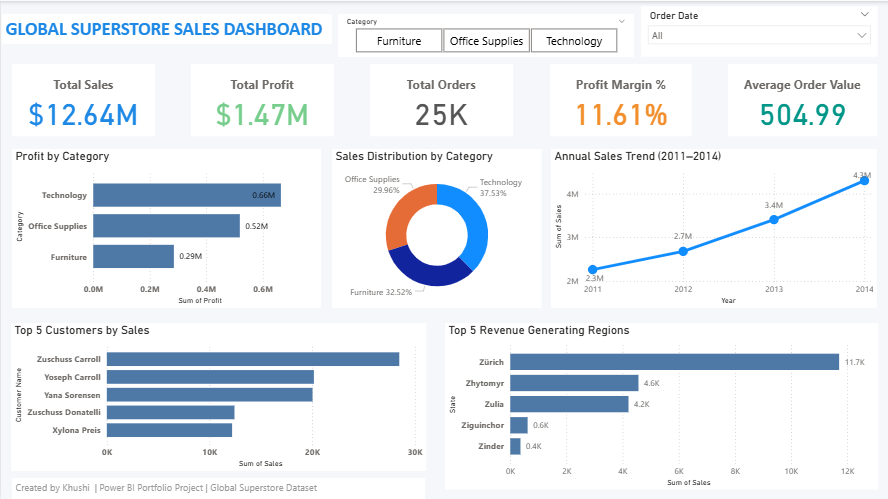

What the dashboard file says about the page in this screenshot:
{"tool":"powerbi","page":{"name":"Page 1","canvas":[1280,720],"ordinal":0},"visuals":[{"type":"cardVisual","fields":{"Data":["Orders.Total Sales"]},"box":[15.8,90.7,205.9,103.7],"z":0},{"type":"cardVisual","fields":{"Data":["Orders.Total Profit"]},"box":[274,90.7,205.9,103.7],"z":1000},{"type":"cardVisual","fields":{"Data":["Orders.Total Orders"]},"box":[532.1,90.7,205.9,103.7],"z":2000},{"type":"lineChart","title":"Annual Sales Trend (2011–2014)","fields":{"Category":["Orders.Order Date.Variation.Date Hierarchy.Year","Orders.Order Date.Variation.Date Hierarchy.Quarter","Orders.Order Date.Variation.Date Hierarchy.Month","Orders.Order Date.Variation.Date Hierarchy.Day"],"Y":["Sum(Orders.Sales)"]},"box":[792,213.1,469.4,229],"z":3000},{"type":"clusteredBarChart","title":"Top 5 Revenue Generating Regions","fields":{"Y":["Sum(Orders.Sales)"],"Category":["Orders.State"]},"box":[639.4,463.7,623.5,240.5],"z":4000},{"type":"slicer","fields":{"Values":["Orders.Category"]},"box":[485.3,18.7,426.2,61.9],"z":5000},{"type":"slicer","fields":{"Values":["Orders.Order Date"]},"box":[921.6,7.2,341.3,73.4],"z":6000},{"type":"textbox","box":[1.4,18.7,475.2,43.2],"z":7000},{"type":"cardVisual","fields":{"Data":["Orders.Profit Margin %"]},"box":[790.2,90.7,204.5,103.7],"z":8000},{"type":"clusteredBarChart","title":"Profit by Category ","fields":{"Category":["Orders.Category"],"Y":["Sum(Orders.Profit)"]},"box":[15.8,213.1,445,229],"z":9000},{"type":"donutChart","title":"Sales Distribution by Category","fields":{"Category":["Orders.Category"],"Y":["Sum(Orders.Sales)"]},"box":[476.6,213.1,302.4,229],"z":9001},{"type":"clusteredBarChart","title":"Top 5 Customers by Sales","fields":{"Category":["Orders.Customer Name"],"Y":["Sum(Orders.Sales)"]},"box":[14.4,463.7,597.6,213.1],"z":9002},{"type":"textbox","box":[15.8,686.9,594.7,33.1],"z":9003},{"type":"cardVisual","fields":{"Data":["Orders.Average Order Value"]},"box":[1046.9,90.7,214.6,103.7],"z":9004}]}

Visuals, with their boxes in screenshot pixels (x1, y1, x2, y2), scaled from the page's 1280x720 canvas onto the 888x499 screenshot:
cardVisual - Orders.Total Sales: 11:63:154:135
cardVisual - Orders.Total Profit: 190:63:333:135
cardVisual - Orders.Total Orders: 369:63:512:135
"Annual Sales Trend (2011–2014)" lineChart: 549:148:875:306
"Top 5 Revenue Generating Regions" clusteredBarChart: 444:321:876:488
slicer - Orders.Category: 337:13:632:56
slicer - Orders.Order Date: 639:5:876:56
textbox: 1:13:331:43
cardVisual - Orders.Profit Margin %: 548:63:690:135
"Profit by Category " clusteredBarChart: 11:148:320:306
"Sales Distribution by Category" donutChart: 331:148:540:306
"Top 5 Customers by Sales" clusteredBarChart: 10:321:425:469
textbox: 11:476:424:498
cardVisual - Orders.Average Order Value: 726:63:875:135
